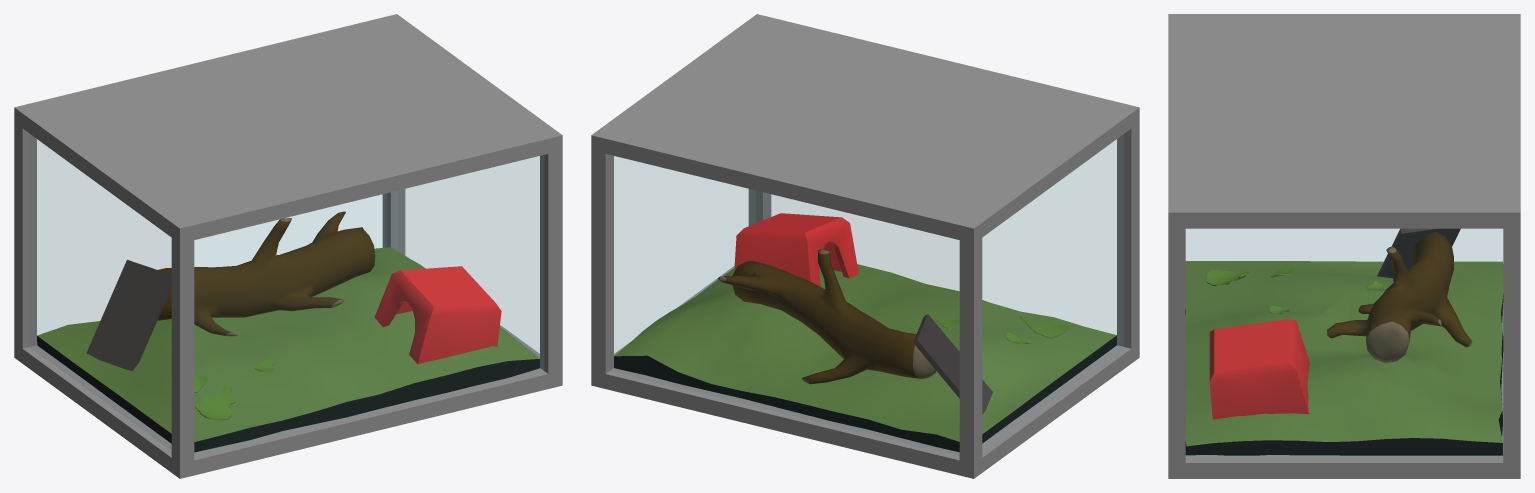
The model's file is SM_Vivarium.fbx.
3 views of the same model, side by side, from view 1: azimuth 30°, elevation 25°; view 2: azimuth 150°, elevation 25°; view 3: azimuth 270°, elevation 25° (orthographic). The views are drawn at different scales.
Visible parts, largest first — view 1: Vivarium001; view 2: Vivarium001; view 3: Vivarium001.
Part boxes in pixels (x1,y1,x2,y2): Vivarium001: [14, 14, 562, 478]; Vivarium001: [591, 14, 1139, 478]; Vivarium001: [1168, 14, 1520, 478].
Bounding box in the file's own units: 0.8 × 0.5 × 0.6.
